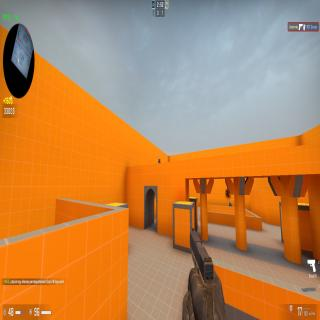CT-Head: (158, 158, 160, 163)
